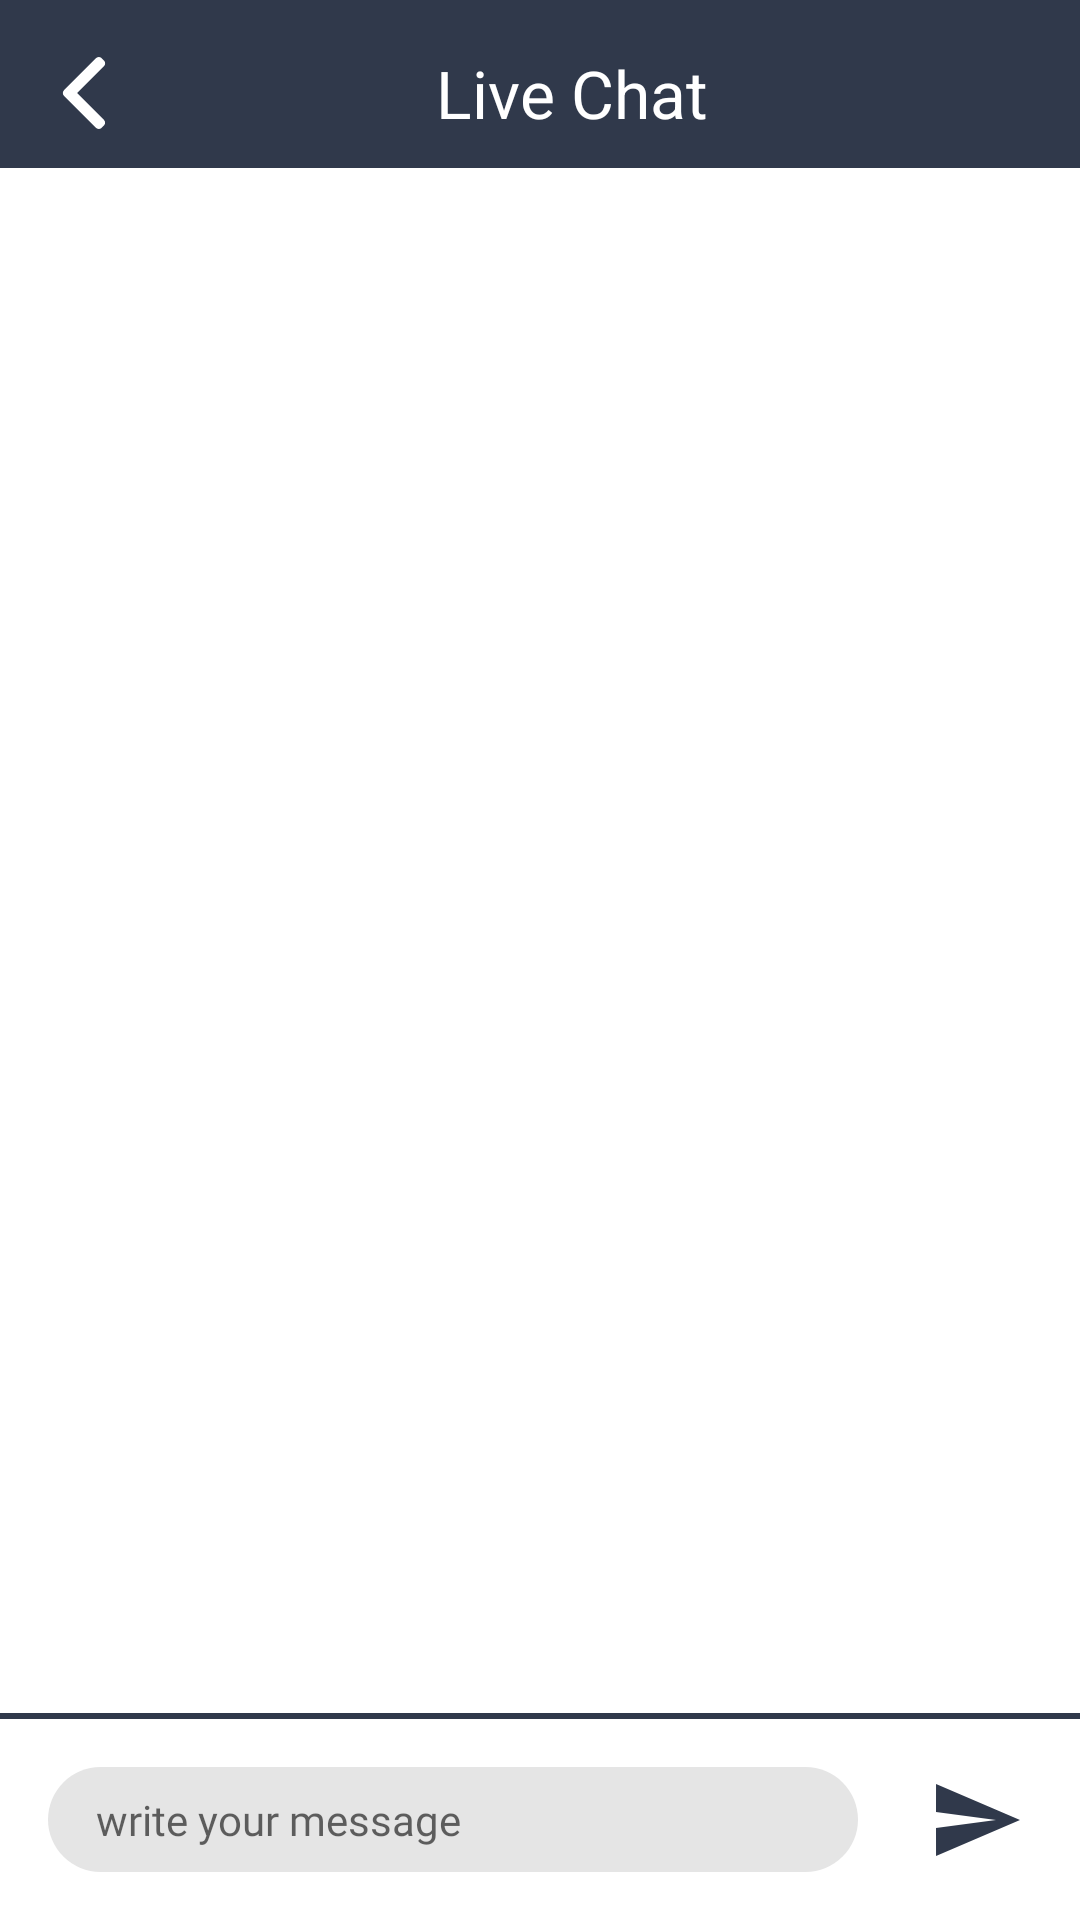

Icons on this 1080px×1920px Android screen, each with the point to tap as (x,y):
left arrow: (84,93)
send: (978,1820)
